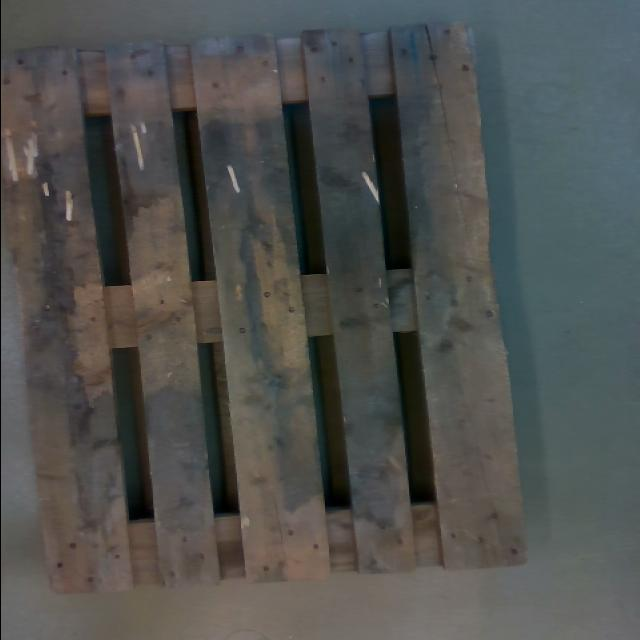pallet: (0, 26, 529, 595)
